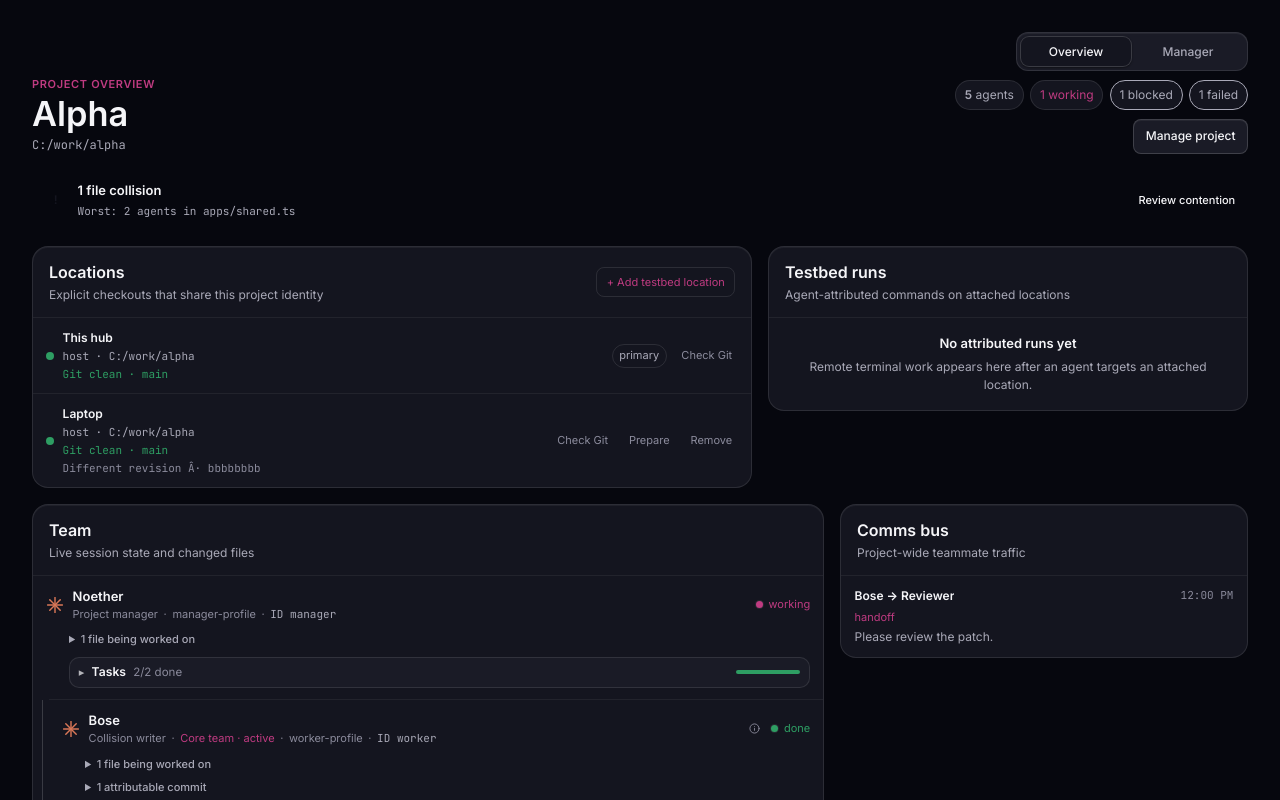
Test case: ProjectView › prepares a remote location at the primary revision and shows convergence
expect the text "Different revision Â· bbbbbbbb" is shown: met, box [63, 461, 261, 475]
What coordinates should you click on to do the following:
click the button with aria-label "Prepare Laptop at the primary revision"
I would click on:
 (649, 441)
Its box is [623, 432, 676, 450].
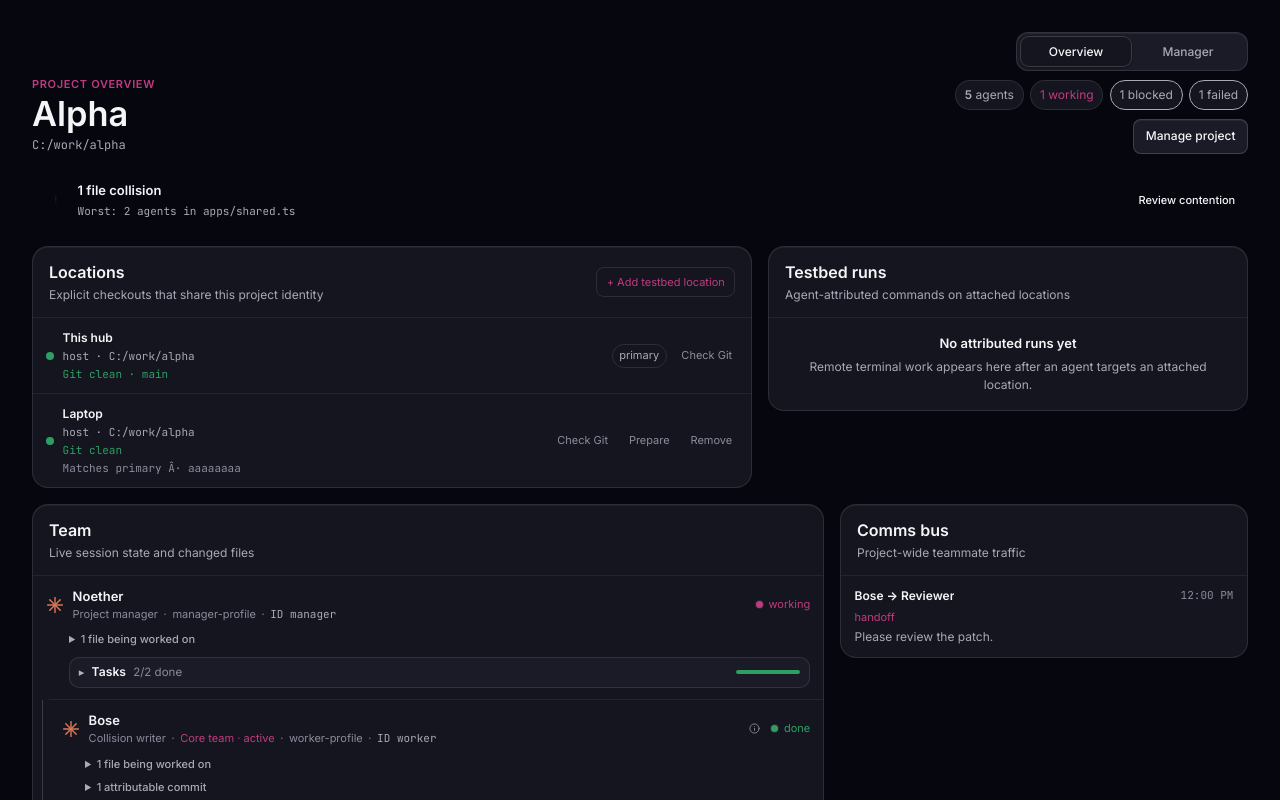
expect the text "Matches primary Â· aaaaaaaa" is shown: met, box [63, 461, 241, 475]
